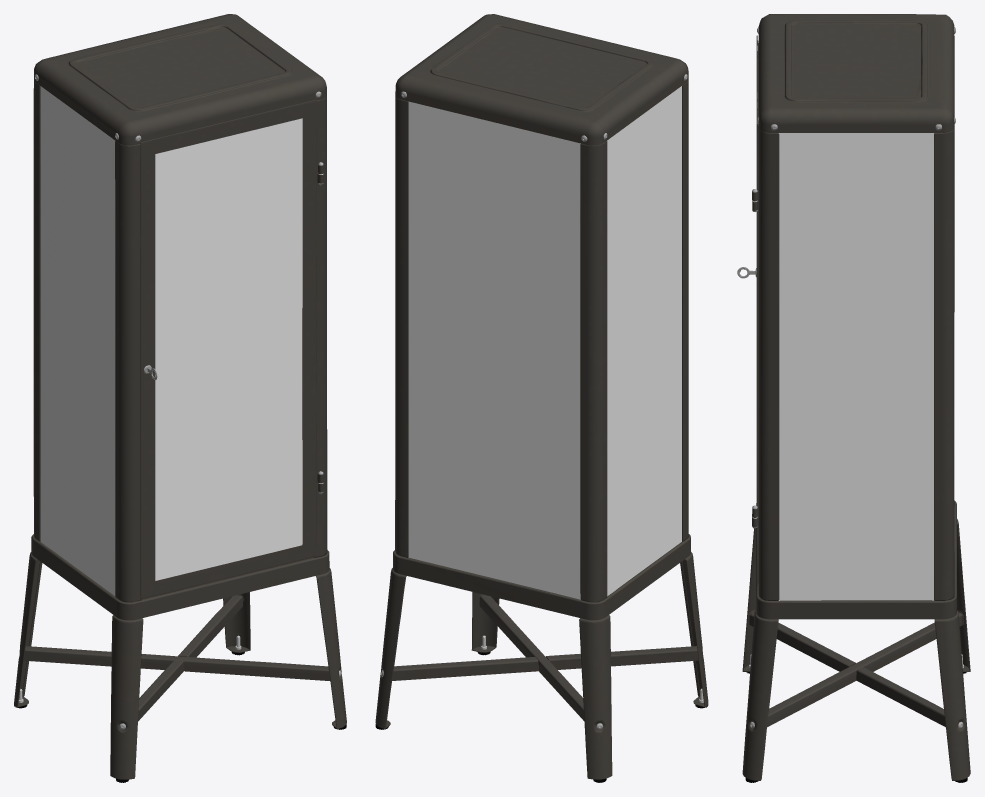
The model's file is fabrikor_witryna_00242278.glb.
3 views of the same model, side by side, from view 1: azimuth 30°, elevation 25°; view 2: azimuth 150°, elevation 25°; view 3: azimuth 270°, elevation 25° (orthographic). The views are drawn at different scales.
Visible parts, largest first — view 1: fabrikor_witryna_00242278; view 2: fabrikor_witryna_00242278; view 3: fabrikor_witryna_00242278.
Part boxes in pixels (left/top/right/bottom): fabrikor_witryna_00242278: left=14, top=14, right=346, bottom=782; fabrikor_witryna_00242278: left=375, top=14, right=708, bottom=782; fabrikor_witryna_00242278: left=737, top=14, right=970, bottom=782.
Bounding box in the file's own units: 0.5684 × 1.51 × 0.4797.
2 materials, 2 textured.
